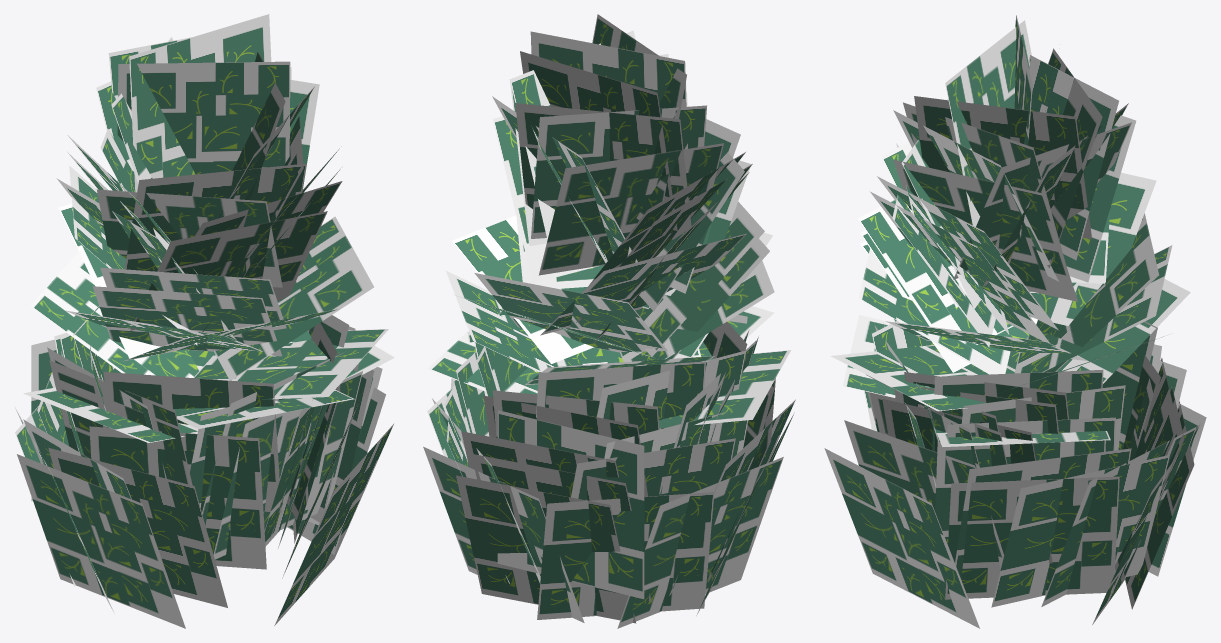
File: bush_3.fbx
The picture shows the model from 3 angles, left to right: view 1: azimuth 30°, elevation 25°; view 2: azimuth 150°, elevation 25°; view 3: azimuth 270°, elevation 25°; orthographic projection.
Parts seen in each view (by area): view 1: bush_leaves.027; view 2: bush_leaves.027; view 3: bush_leaves.027.
Boxes of the visible parts, x1,y1,x2,y2 form: bush_leaves.027: (15, 14, 394, 628); bush_leaves.027: (423, 14, 795, 628); bush_leaves.027: (824, 15, 1206, 628).
Size of the model in its own units: 219 by 342 by 226.
1 material, 1 textured.
